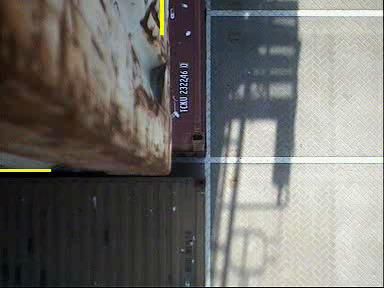groundmarker_2: (197, 151, 258, 247)
